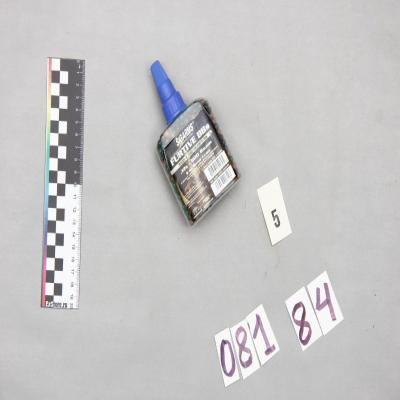weapon: (155, 65, 238, 227)
